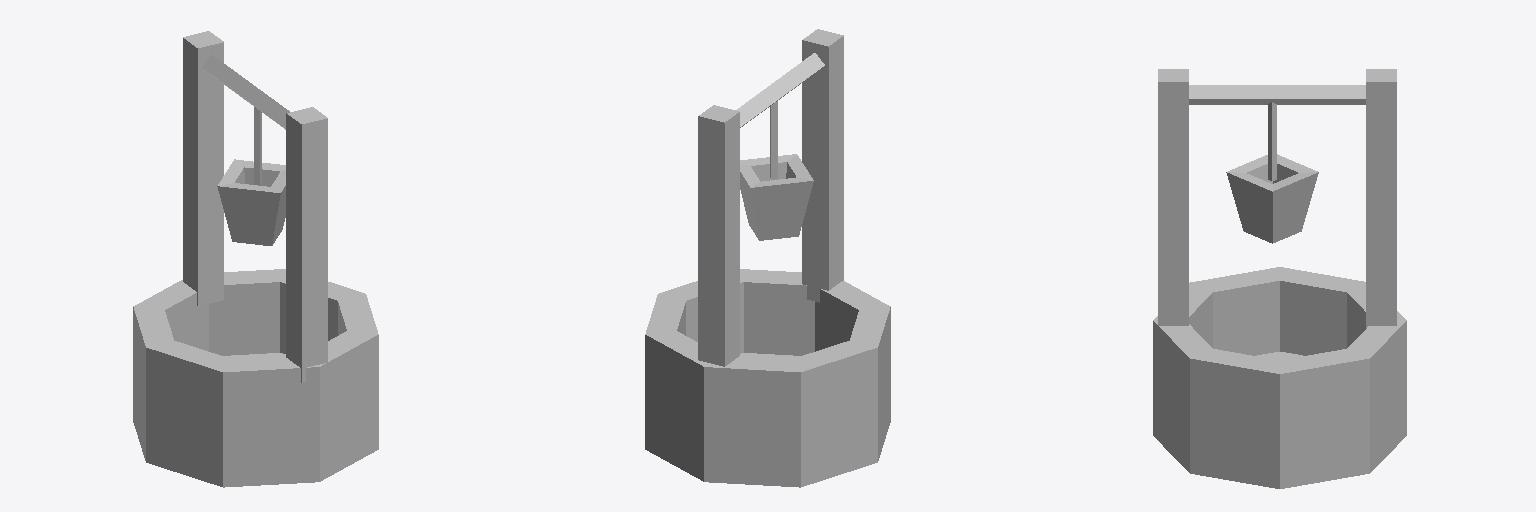
Rendered from well.obj.
3 views of the same model, side by side, from view 1: azimuth 30°, elevation 25°; view 2: azimuth 150°, elevation 25°; view 3: azimuth 270°, elevation 25° (orthographic).
Parts seen in each view (by area): view 1: Cube.006_Cube.005; view 2: Cube.006_Cube.005; view 3: Cube.006_Cube.005.
Boxes of the visible parts, x1=… form: Cube.006_Cube.005: x1=133, y1=31, x2=378, y2=487; Cube.006_Cube.005: x1=645, y1=29, x2=890, y2=487; Cube.006_Cube.005: x1=1153, y1=69, x2=1406, y2=488.
Size of the model in its own units: 5.13 by 8 by 5.13.